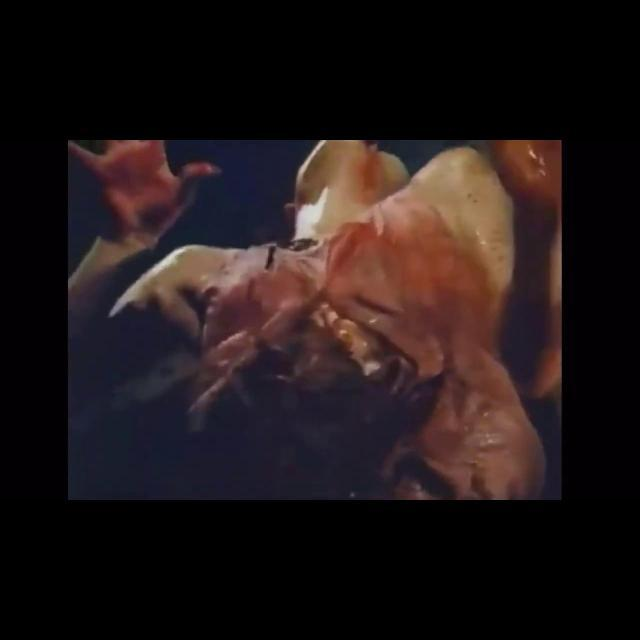blood: (111, 140, 562, 500), (70, 140, 220, 248)
